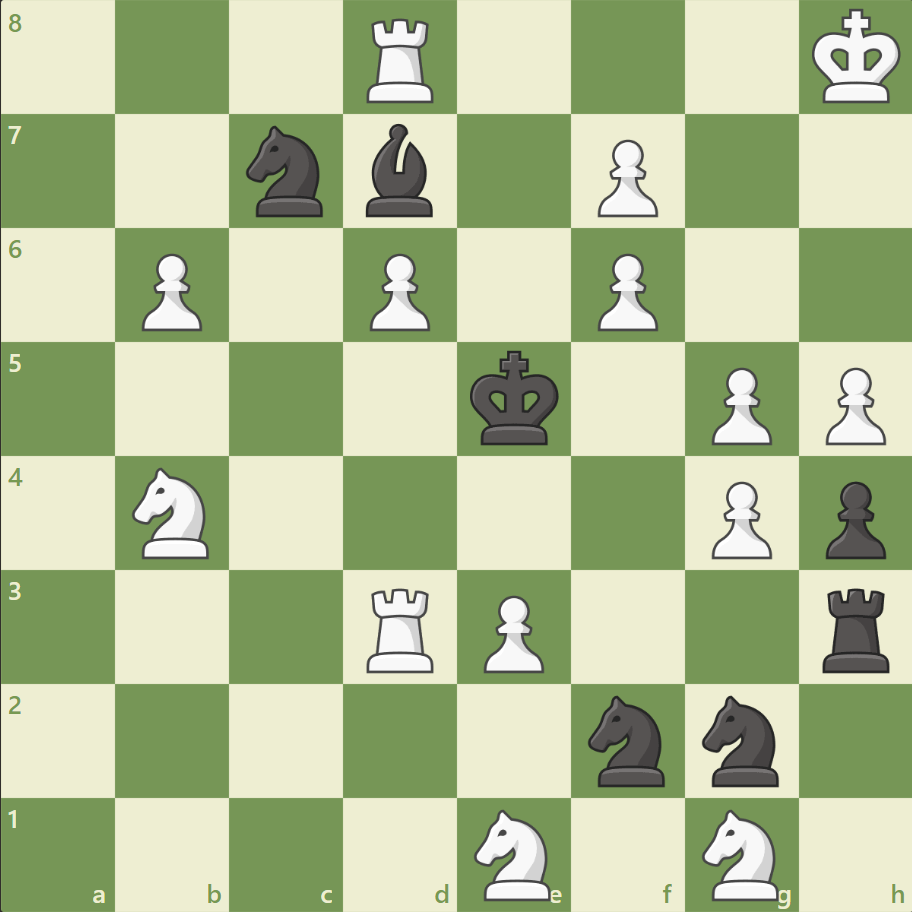K: (806, 4, 906, 112)
N: (124, 461, 222, 564), (465, 802, 562, 904), (692, 802, 789, 904)
P: (133, 246, 208, 337), (701, 359, 776, 450), (701, 473, 776, 564), (474, 586, 549, 677), (588, 132, 662, 223), (361, 246, 435, 337), (588, 246, 662, 337), (815, 359, 889, 450)
R: (360, 12, 442, 109), (360, 579, 442, 676)
b: (358, 120, 442, 222)
k: (465, 344, 565, 452)
n: (579, 688, 676, 791), (692, 688, 789, 791), (238, 121, 335, 223)
p: (815, 473, 889, 564)
r: (814, 579, 897, 676)
